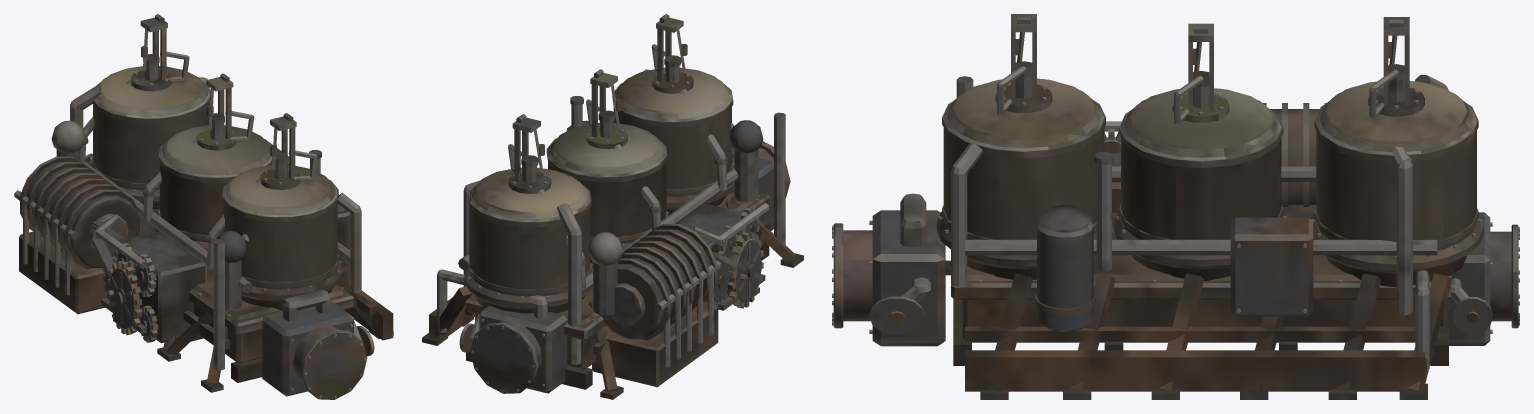
File: steam-engine.glb
The picture shows the model from 3 angles, left to right: view 1: azimuth 30°, elevation 25°; view 2: azimuth 150°, elevation 25°; view 3: azimuth 270°, elevation 25°; orthographic projection. The views are drawn at different scales.
Visible parts, largest first — view 1: body, anim_spin_flywheel; view 2: body, anim_spin_flywheel; view 3: body.
Part boxes in pixels (x1,y1,x2,y2): body: (14, 14, 393, 399); anim_spin_flywheel: (107, 260, 142, 335); body: (422, 14, 803, 399); anim_spin_flywheel: (727, 231, 763, 308); body: (832, 14, 1519, 399).
Size of the model in its own units: 3.07 by 3.02 by 5.83.
Materials: 1 (1 with a texture image).
